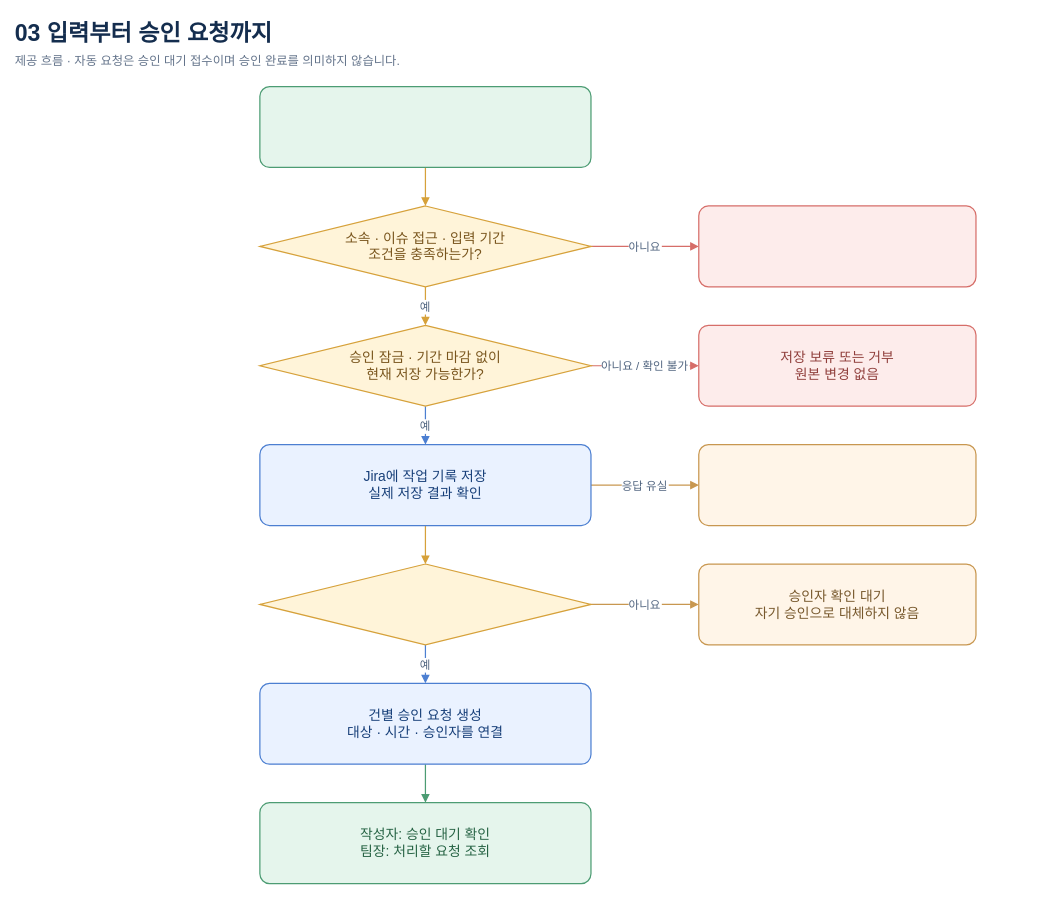
Image size: 1043x897. Some labels were removed from this diagram. Here are the shapes that lost their labels. From the top down, the centre of each, then its label:
point 425,127: 작성자가 작업 시간 입력
point 837,246: 입력 거부 충족하지 못한 조건 안내
point 837,485: 저장 결과 불명확 원본 확인 후 후속 접수
point 425,604: 승인 가능한 팀장이 확인되었는가?
